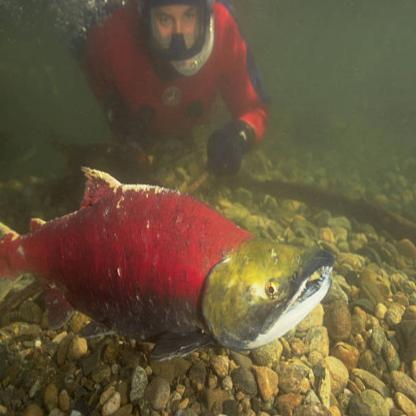sockeye: (0, 167, 331, 354)
